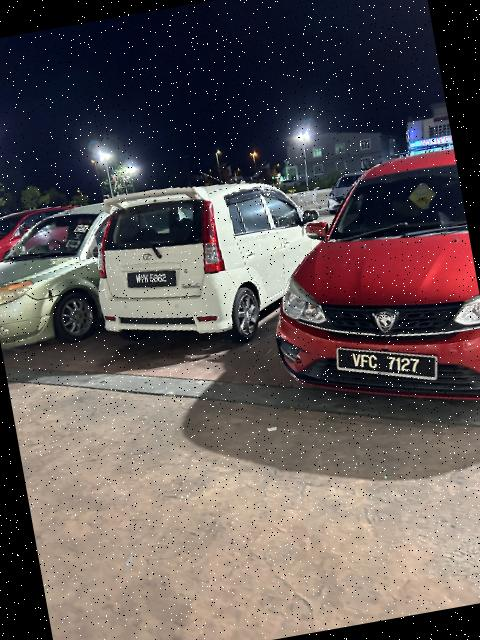License_Plate: (332, 325, 447, 399), (125, 265, 177, 298)
car: (241, 143, 480, 438), (78, 160, 333, 365), (1, 184, 186, 366)
